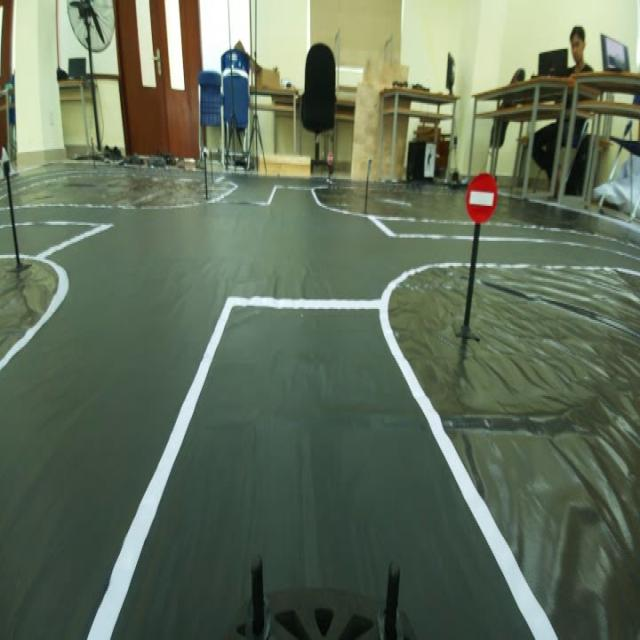no_entry: (466, 167, 498, 226)
